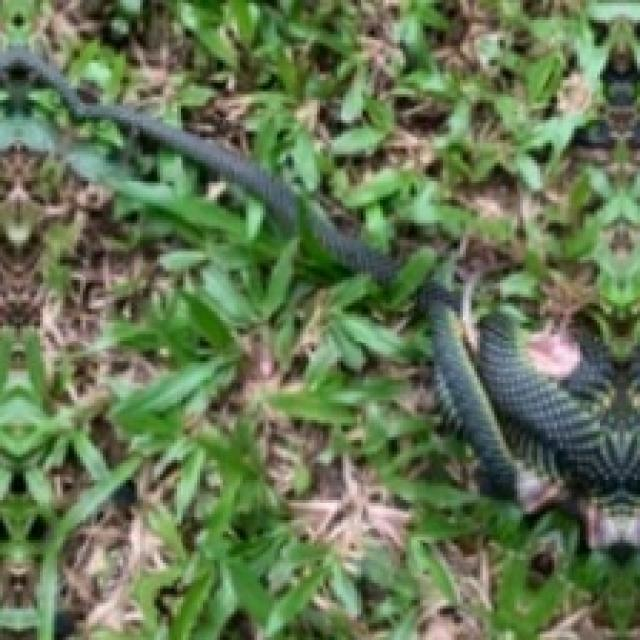paradise tree snake: (0, 46, 397, 280), (420, 277, 637, 546), (423, 283, 637, 503)
